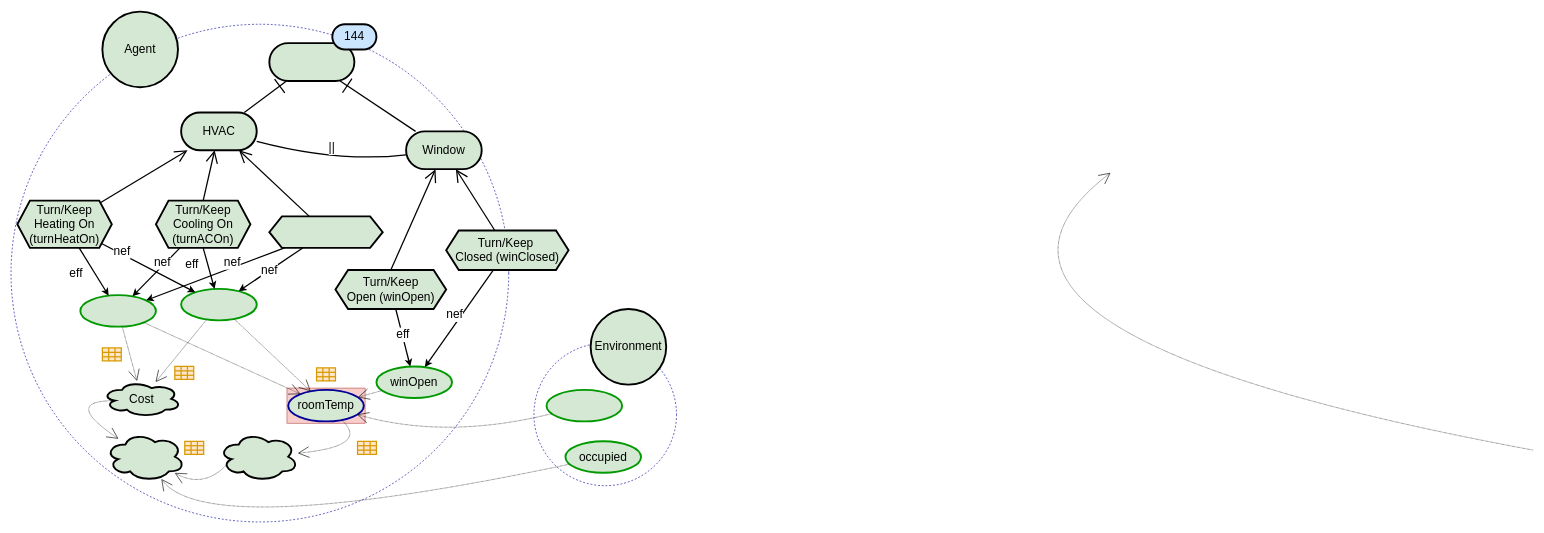
The diagram is 1544 pixels wide and 533 high, and some of its shapes have lost their labels. The centre of each missing label's shape, as x and y in pixels:
"acOn" belongs at point 218,304.
"Comfort" belongs at point 258,456.
"Control Temperature" belongs at point 311,62.
"heatOn" belongs at point 118,310.
"outsideTemp" belongs at point 584,405.
"Total Reward" belongs at point 144,456.
"Turn/Keep HVAC Off (turnHVACoff)" belongs at point 325,232.
